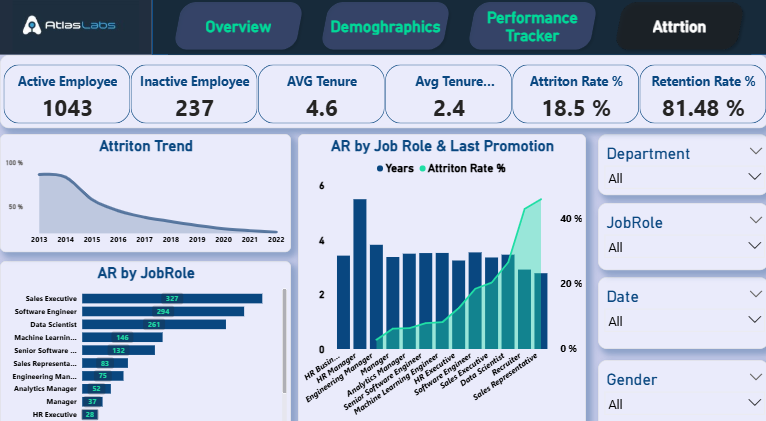

Layout of this report page (visuals, bound fields, positions):
{"tool":"powerbi","page":{"name":"Attrtion","canvas":[1280,720],"ordinal":3},"visuals":[{"type":"image","box":[0,0,253.4,96.5],"z":0},{"type":"shape","box":[253.4,0,1026.7,96.5],"z":1000},{"type":"pageNavigator","box":[280.8,0,972,96.5],"z":2000},{"type":"actionButton","box":[799.2,0,177.1,74.9],"z":3000},{"type":"actionButton","box":[309.1,37,176.4,75.6],"z":4000},{"type":"actionButton","box":[550.2,38.6,177.8,75.5],"z":5000},{"type":"slicer","title":"Date","fields":{"Values":["DimDate.Year","DimDate.MonthNumber"]},"box":[996.5,466.6,283.7,119.5],"z":6000},{"type":"slicer","fields":{"Values":["DimEmployee.Department"]},"box":[996.5,227.5,283.7,102.2],"z":7000},{"type":"cardVisual","fields":{"Data":["___MEASURES.Active Employee","___MEASURES.Inactive Employee","___MEASURES.AVG Tenure","___MEASURES.Avg Tenure (Inactive)","___MEASURES.Attriton Rate %","DimDate.Retention Rate %"]},"box":[0,96.5,1280.2,122.4],"z":8000},{"type":"slicer","fields":{"Values":["DimEmployee.Gender"]},"box":[996.5,604.8,283.7,115.2],"z":9000},{"type":"slicer","fields":{"Values":["DimEmployee.JobRole"]},"box":[996.5,342.7,283.7,112.3],"z":10000},{"type":"barChart","title":"AR by JobRole","fields":{"Category":["DimEmployee.JobRole"],"Y":["CountNonNull(DimEmployee.Attrition)"]},"box":[0,439.2,485.3,280.8],"z":11000},{"type":"lineChart","title":"Attriton Trend","fields":{"Y":["___MEASURES.Attriton Rate %"],"Category":["DimDate.Year"]},"box":[0,228.3,485,196.7],"z":12000},{"type":"lineClusteredColumnComboChart","title":"AR by Job Role & Last Promotion","fields":{"Y":["Avg(DimEmployee.YearsSinceLastPromotion)"],"Y2":["___MEASURES.Attriton Rate %"],"Category":["DimEmployee.JobRole"]},"box":[496.7,228.3,480,491.7],"z":13000}]}

Visuals, with their boxes in screenshot pixels (x1, y1, x2, y2), scaled from the page's 1280x720 canvas onto the 766x421 screenshot:
image: (left=0, top=0, right=152, bottom=56)
shape: (left=152, top=0, right=765, bottom=56)
pageNavigator: (left=168, top=0, right=750, bottom=56)
actionButton: (left=478, top=0, right=584, bottom=44)
actionButton: (left=185, top=22, right=291, bottom=66)
actionButton: (left=329, top=23, right=436, bottom=67)
"Date" slicer: (left=596, top=273, right=765, bottom=343)
slicer - DimEmployee.Department: (left=596, top=133, right=765, bottom=193)
cardVisual - ___MEASURES.Active Employee x ___MEASURES.Inactive Employee: (left=0, top=56, right=765, bottom=128)
slicer - DimEmployee.Gender: (left=596, top=354, right=765, bottom=420)
slicer - DimEmployee.JobRole: (left=596, top=200, right=765, bottom=266)
"AR by JobRole" barChart: (left=0, top=257, right=290, bottom=420)
"Attriton Trend" lineChart: (left=0, top=133, right=290, bottom=249)
"AR by Job Role & Last Promotion" lineClusteredColumnComboChart: (left=297, top=133, right=584, bottom=420)
